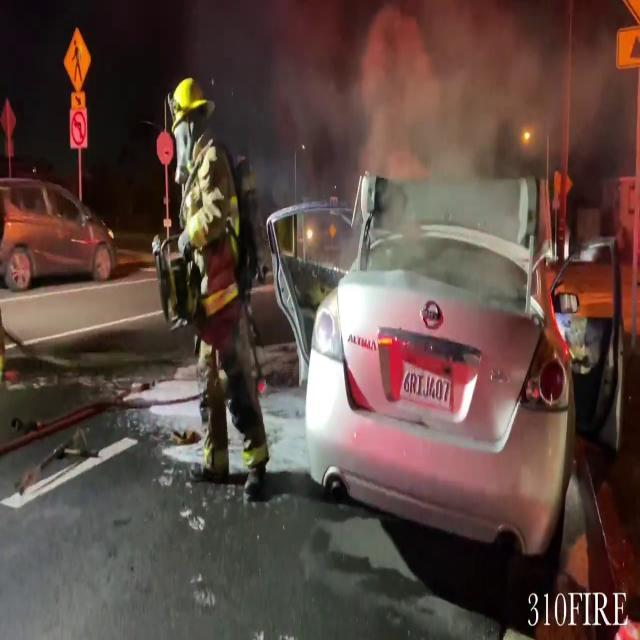Smoke: (250, 1, 628, 182)
